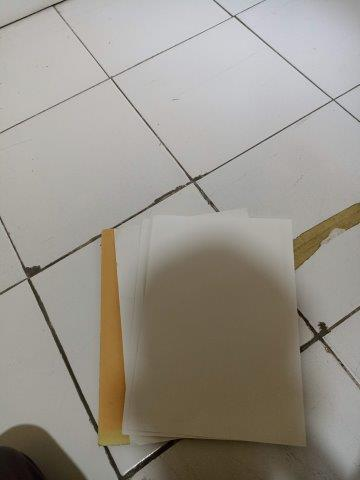kertas: (99, 208, 306, 447)
